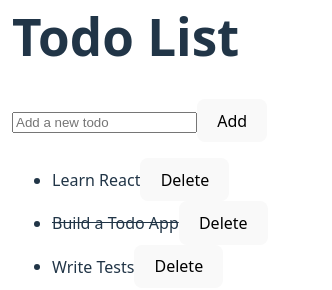
Test: TodoList Component › can delete a todo
What coordinates should you click on to do the following:
click the button "Delete" next to "Learn React"
I would click on:
 (185, 180)
Its box is [140,158,230,202].
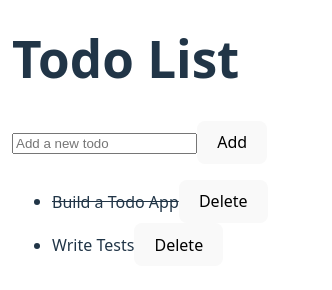
Expected: the text "Learn React" is gone
